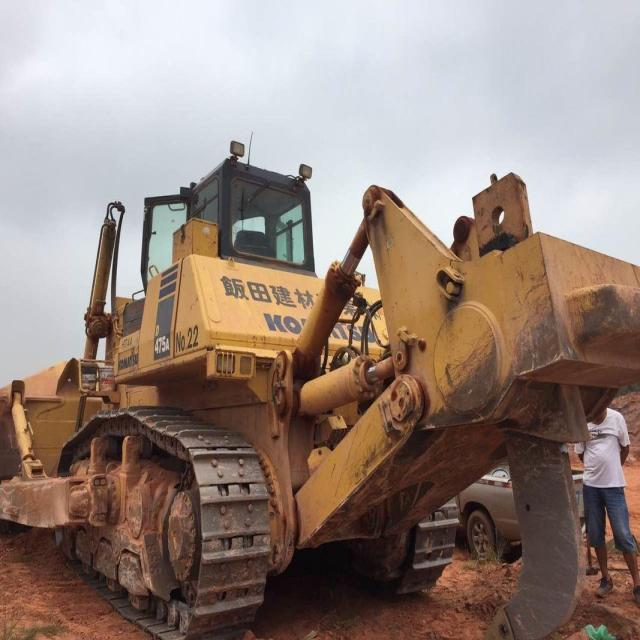buldozerpayloadergrader: (13, 133, 640, 632)
